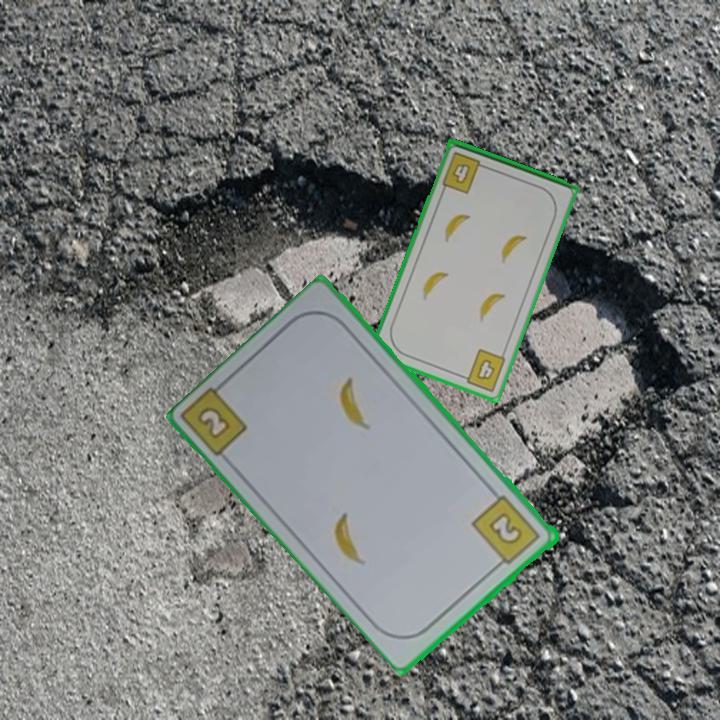2b: (468, 491, 544, 571), (197, 406, 230, 439)
4b: (456, 345, 509, 395), (438, 148, 490, 197)
